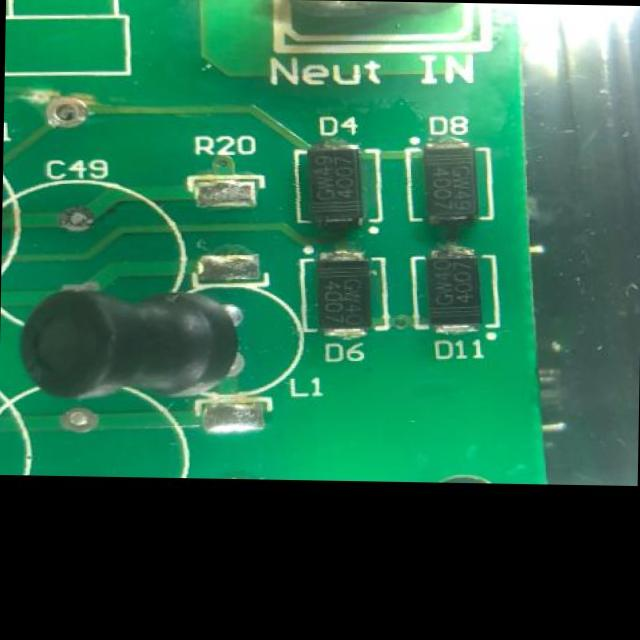capacitor: (14, 275, 264, 411)
diode: (294, 139, 376, 228), (414, 142, 495, 230), (300, 255, 382, 339), (418, 252, 492, 340)
